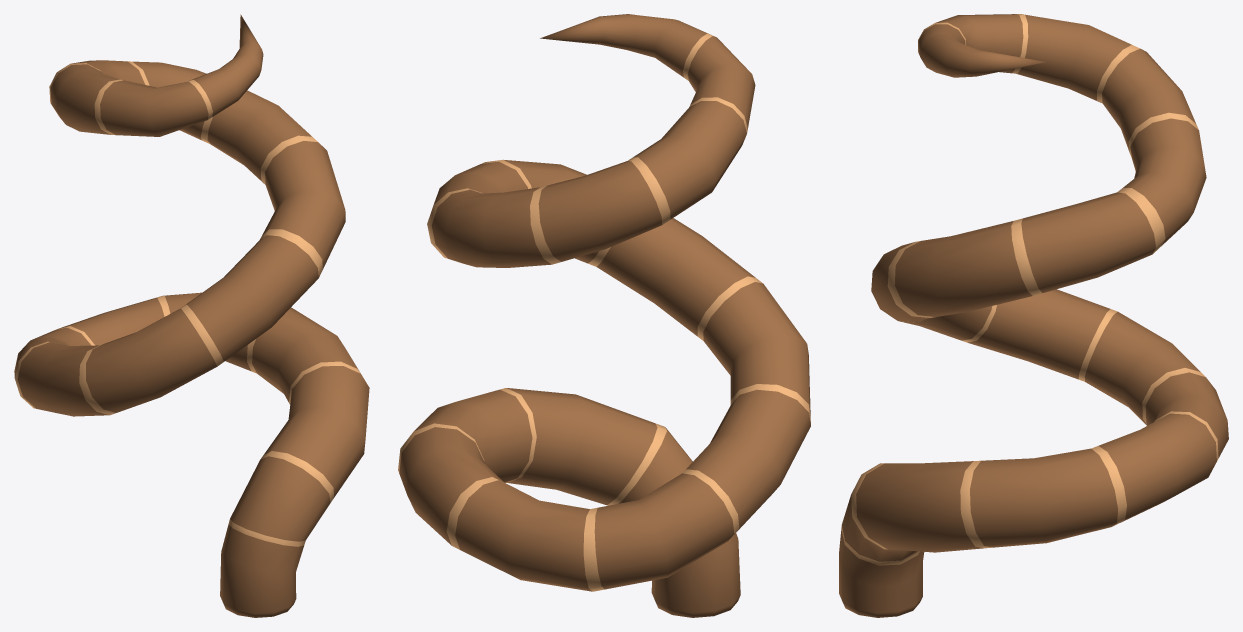
The model's file is Spiral Horn.fbx.
The picture shows the model from 3 angles, left to right: view 1: azimuth 30°, elevation 25°; view 2: azimuth 150°, elevation 25°; view 3: azimuth 270°, elevation 25°; orthographic projection. The views are drawn at different scales.
Parts seen in each view (by area): view 1: Spiral Horn - juantmessina (PercyCreeper); view 2: Spiral Horn - juantmessina (PercyCreeper); view 3: Spiral Horn - juantmessina (PercyCreeper).
Boxes of the visible parts, left/top/right/bottom form: Spiral Horn - juantmessina (PercyCreeper): left=14, top=14, right=369, bottom=617; Spiral Horn - juantmessina (PercyCreeper): left=398, top=14, right=810, bottom=617; Spiral Horn - juantmessina (PercyCreeper): left=839, top=14, right=1228, bottom=617.
Size of the model in its own units: 62.05 by 102 by 62.79.
